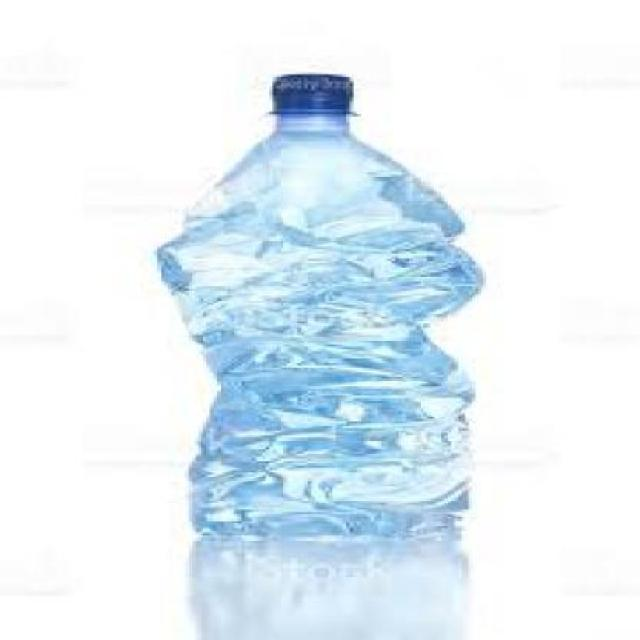PLASTIC: (150, 70, 482, 542), (262, 72, 353, 112)
